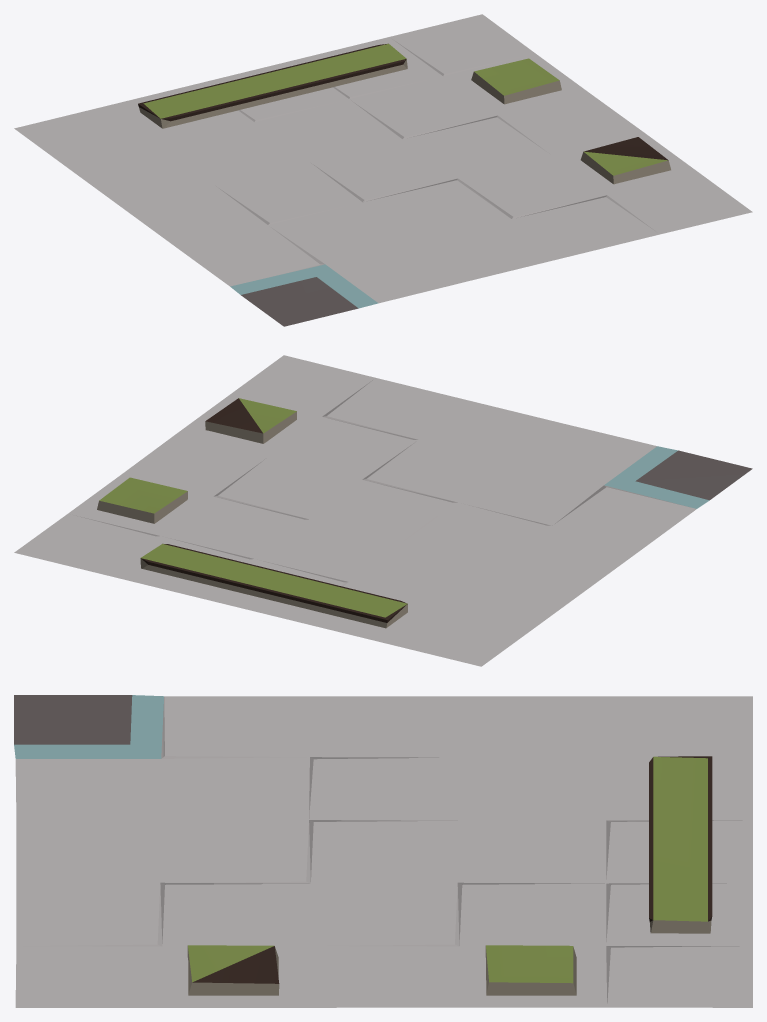
File: QmdHfyubLbzY3m85JmVCMNkfhK1Prc6cfJpyi5zkeTDpWX_lod2.fbx
3 renders of one model, top to bottom at view 1: azimuth 30°, elevation 25°; view 2: azimuth 150°, elevation 25°; view 3: azimuth 270°, elevation 25°, orthographic. The views are drawn at different scales.
Parts seen in each view (by area): view 1: Entity_513; view 2: Entity_513; view 3: Entity_513.
Boxes of the visible parts, x1=… form: Entity_513: x1=14, y1=14, x2=752, y2=326; Entity_513: x1=14, y1=355, x2=752, y2=666; Entity_513: x1=14, y1=695, x2=752, y2=1007.
Size of the model in its own units: 15914 by 341 by 15910.
1 material, 1 textured.
